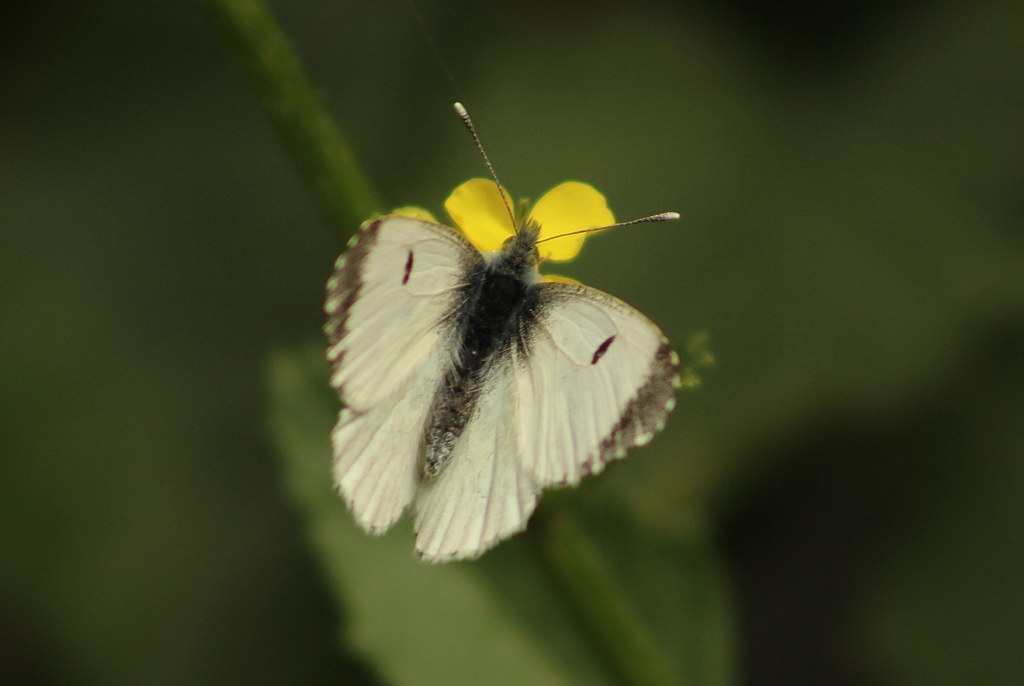Butterfly: (303, 97, 697, 565)
